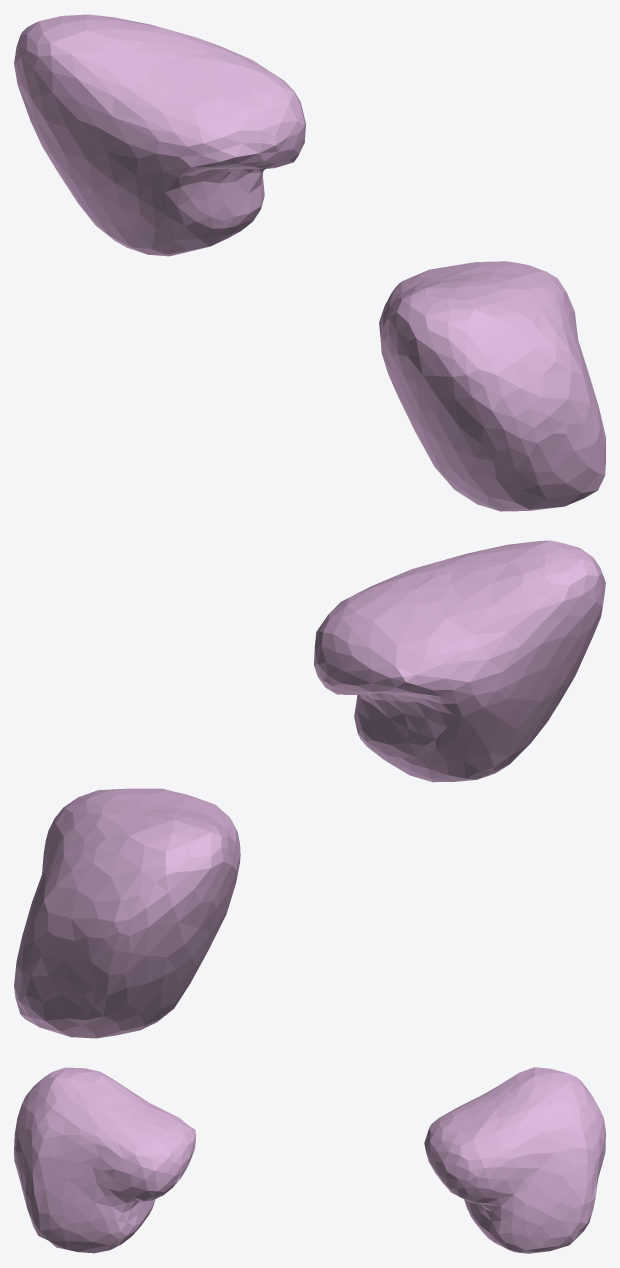
The picture shows the model from 3 angles, top to bottom: view 1: azimuth 30°, elevation 25°; view 2: azimuth 150°, elevation 25°; view 3: azimuth 270°, elevation 25°; orthographic projection. The views are drawn at different scales.
Parts seen in each view (by area): view 1: 1052.obj; view 2: 1052.obj; view 3: 1052.obj.
Boxes of the visible parts, x1,y1,x2,y2 form: 1052.obj: (14, 14, 605, 511); 1052.obj: (14, 540, 605, 1038); 1052.obj: (14, 1067, 605, 1253).
Size of the model in its own units: 934 by 923 by 3540.
